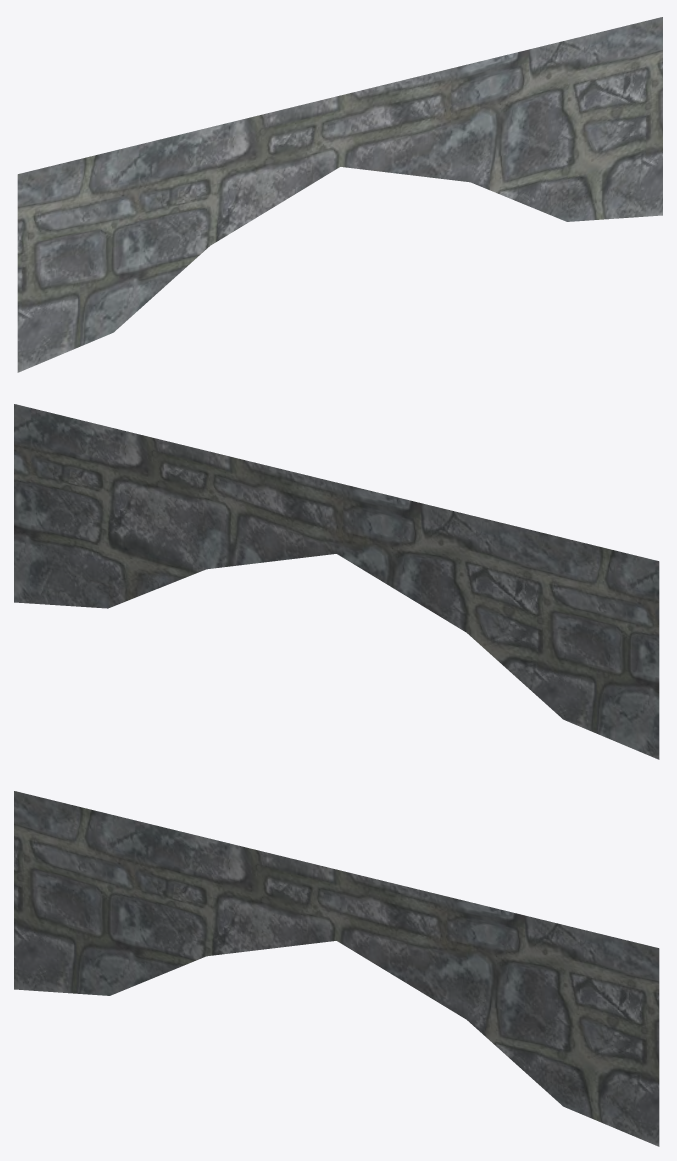
Rendered from SM_Crypt_Wall_Stop_Gap.glb.
3 renders of one model, top to bottom at view 1: azimuth 30°, elevation 25°; view 2: azimuth 150°, elevation 25°; view 3: azimuth 330°, elevation 25°, orthographic.
Visible parts, largest first — view 1: SM_Crypt_Wall_Stop_Gap; view 2: SM_Crypt_Wall_Stop_Gap; view 3: SM_Crypt_Wall_Stop_Gap.
Part boxes in pixels (x1=…): SM_Crypt_Wall_Stop_Gap: x1=17, y1=17, x2=662, y2=372; SM_Crypt_Wall_Stop_Gap: x1=14, y1=404, x2=659, y2=759; SM_Crypt_Wall_Stop_Gap: x1=14, y1=791, x2=659, y2=1146.
Bounding box in the file's own units: 6.2 × 1.82 × 0.0625.
1 material, 1 textured.
